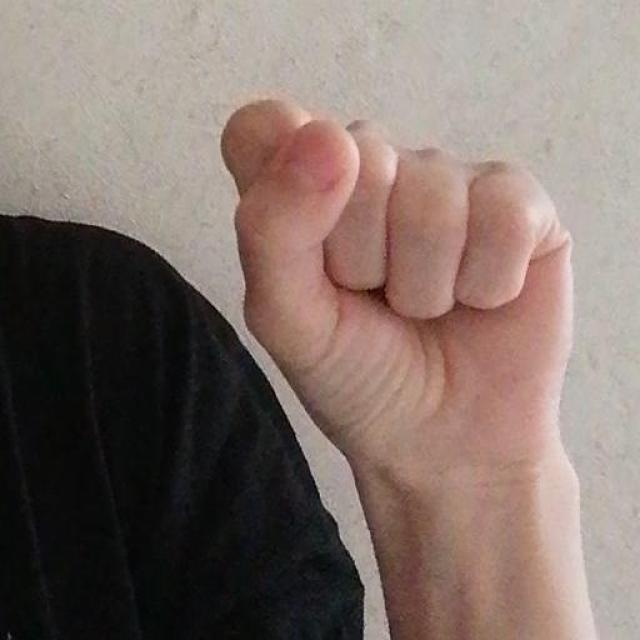hand: (218, 95, 578, 490)
